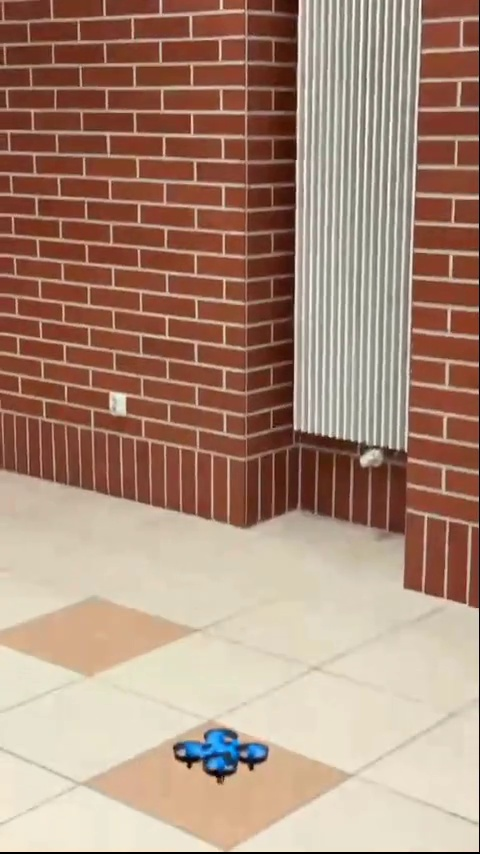drone: (177, 726, 270, 787)
